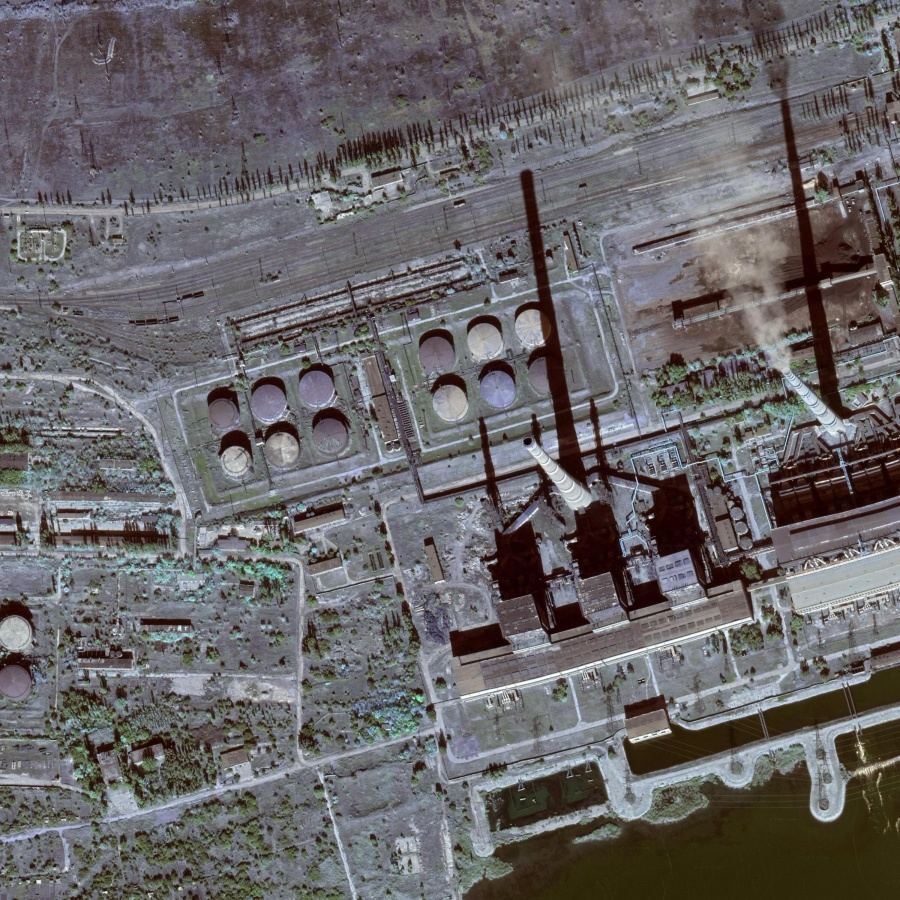PowerPlant: (170, 340, 377, 516)
